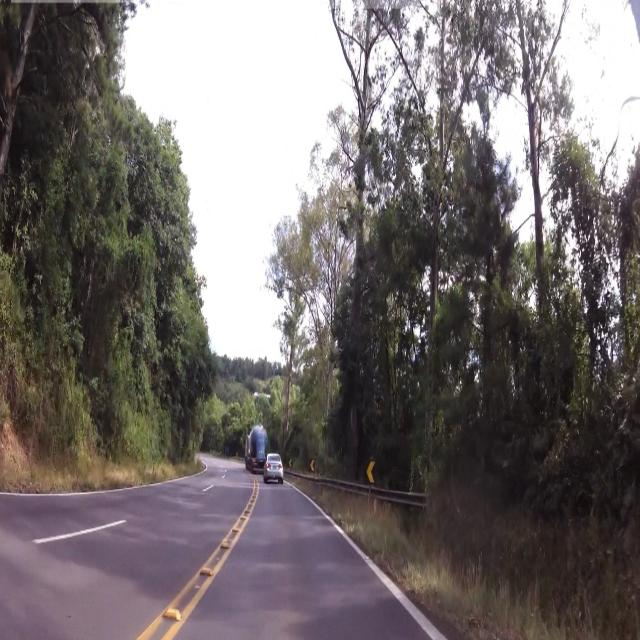Del: (366, 456, 375, 488)
